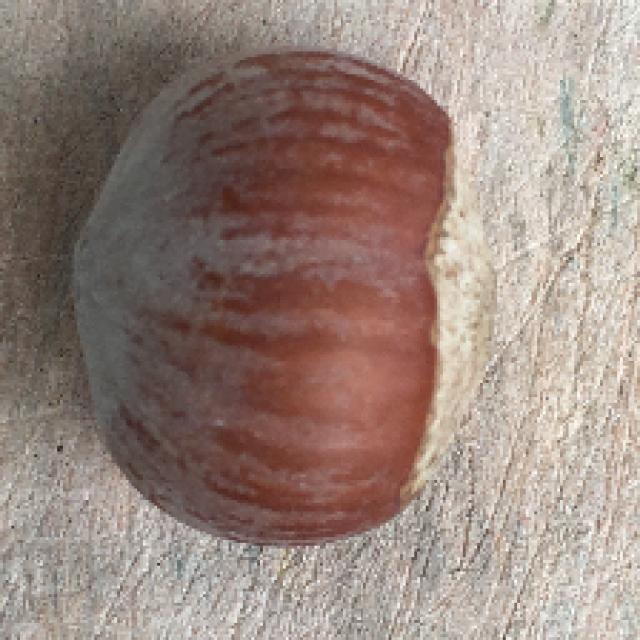qualityHazelnut: (60, 44, 498, 547)
